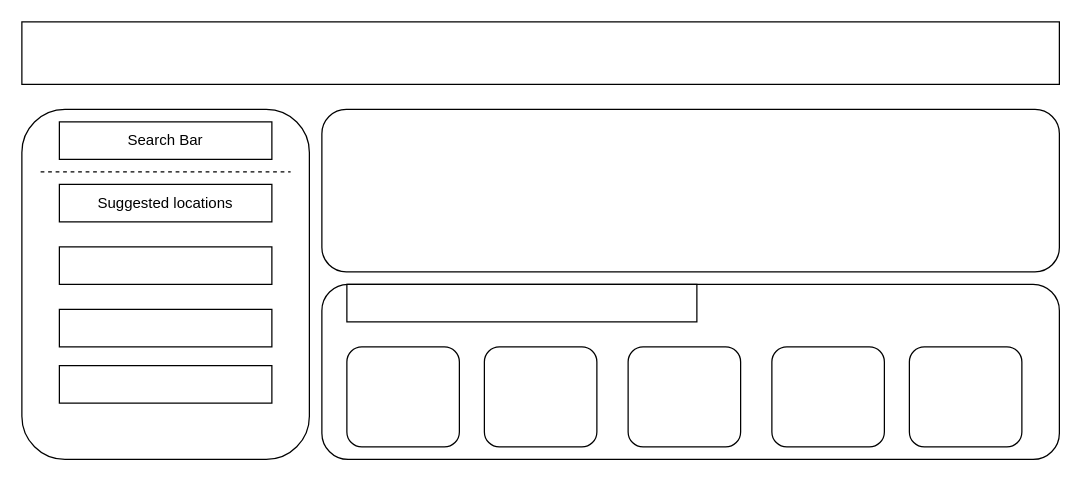
Image size: 1081x481. Some labels were removed from this diagram. Each missing label, with the centre of its shape:
5-day forecast: point 521,302
Picture + temp + wind + humidity + UV index: point 690,190
